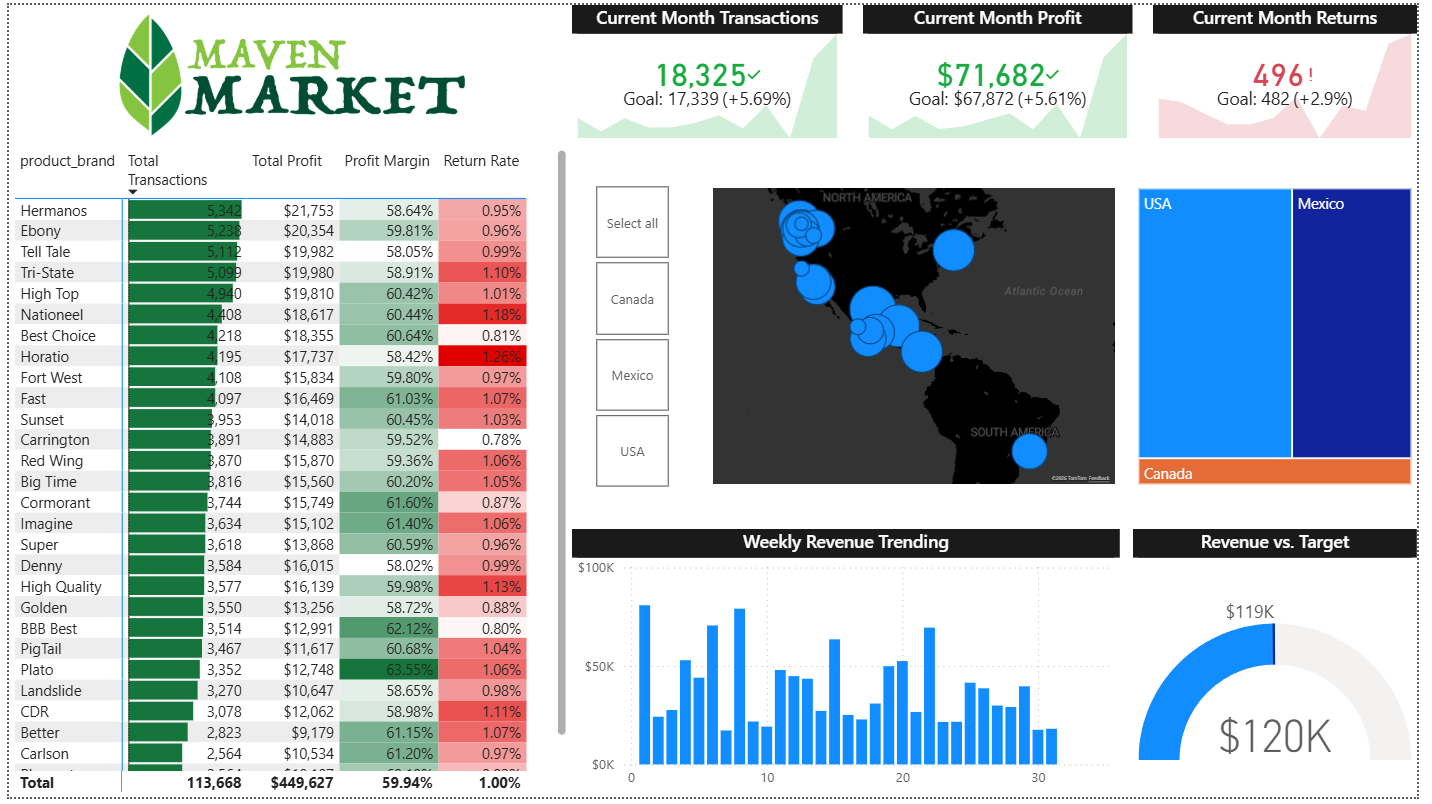

The page's visual inventory and layout, read from the dashboard file:
{"tool":"powerbi","page":{"name":"Topline Performance","canvas":[1280,720],"ordinal":0},"visuals":[{"type":"image","box":[0,0,512,126],"z":0},{"type":"pivotTable","fields":{"Rows":["Products.product_brand"],"Values":["Measure Table.Total Transactions","Measure Table.Total Profit","Measure Table.Profit Margin","Measure Table.Return Rate"]},"box":[0,126,512,594],"z":1000},{"type":"kpi","title":"Current Month Transactions","fields":{"Goal":["Measure Table.Last Month Transactions"],"Indicator":["Measure Table.Total Transactions"],"TrendLine":["Calendar.Start of Month"]},"box":[512,0,246,126],"z":2000},{"type":"kpi","title":"Current Month Profit","fields":{"Goal":["Measure Table.Last Month Profit"],"Indicator":["Measure Table.Total Profit"],"TrendLine":["Calendar.Start of Month"]},"box":[776.5,0,245,126],"z":3000},{"type":"kpi","title":"Current Month Returns","fields":{"Goal":["Measure Table.Last Month Returns"],"Indicator":["Measure Table.Total Returns"],"TrendLine":["Calendar.Start of Month"]},"box":[1040,0,240,126],"z":4000},{"type":"azureMap","fields":{"Category":["Stores.store_city"],"Size":["Measure Table.Total Transactions"]},"box":[635,162,375,279],"z":5000},{"type":"slicer","fields":{"Values":["Stores.store_country"]},"box":[512,162,108,279],"z":6000},{"type":"treemap","fields":{"Group":["Stores.store_country","Stores.store_state","Stores.store_city"],"Values":["Measure Table.Total Transactions"]},"box":[1022,162,258,279],"z":7000},{"type":"columnChart","title":"Weekly Revenue Trending","fields":{"Category":["Calendar.Start of Week (Sunday).Variation.Date Hierarchy.Day"],"Y":["Measure Table.Total Revenue"]},"box":[512,476,498,244],"z":8000},{"type":"gauge","title":"Revenue vs. Target","fields":{"TargetValue":["Measure Table.Revenue Target"],"Y":["Measure Table.Total Revenue"]},"box":[1022,476,258,244],"z":9000}]}

Visuals, with their boxes in screenshot pixels (x1, y1, x2, y2), scaled from the page's 1280x720 canvas onto the 1432x804 screenshot:
image: 0/0/573/141
pivotTable - Products.product_brand x Measure Table.Total Transactions: 0/141/573/803
"Current Month Transactions" kpi: 573/0/848/141
"Current Month Profit" kpi: 869/0/1143/141
"Current Month Returns" kpi: 1164/0/1431/141
azureMap - Stores.store_city x Measure Table.Total Transactions: 710/181/1130/492
slicer - Stores.store_country: 573/181/694/492
treemap - Stores.store_country x Stores.store_state: 1143/181/1431/492
"Weekly Revenue Trending" columnChart: 573/532/1130/803
"Revenue vs. Target" gauge: 1143/532/1431/803
